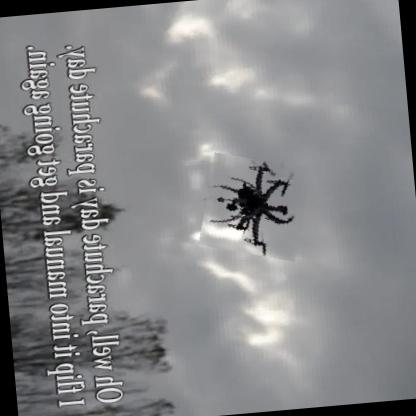drone: (196, 150, 313, 264)
